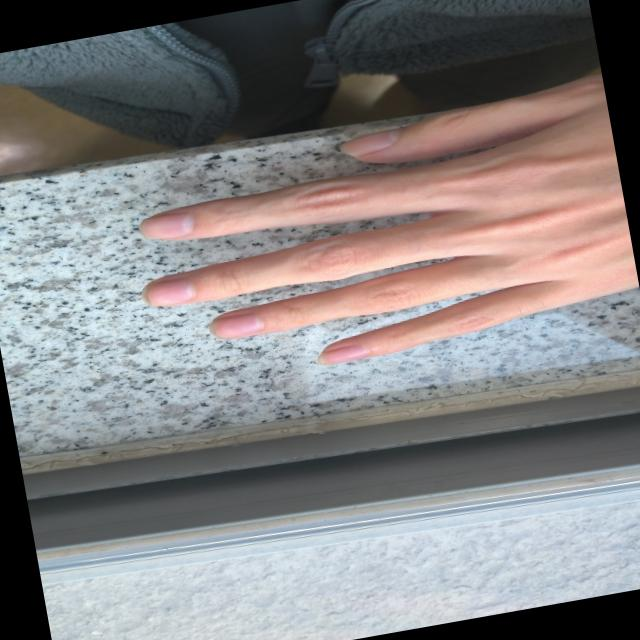Nail: (340, 127, 399, 155), (141, 278, 194, 305), (139, 212, 192, 238), (209, 312, 262, 337), (317, 344, 368, 363)
